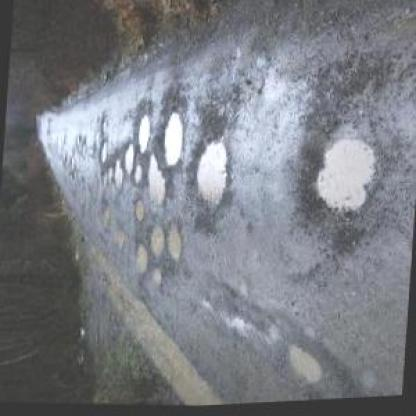pothole: (296, 126, 378, 228), (189, 133, 233, 214), (157, 108, 187, 172), (283, 344, 323, 390), (143, 154, 170, 209), (164, 221, 184, 264), (133, 114, 153, 156), (148, 224, 166, 260), (132, 241, 148, 276), (111, 158, 125, 191), (121, 146, 134, 178), (97, 140, 108, 164), (132, 200, 143, 223)
